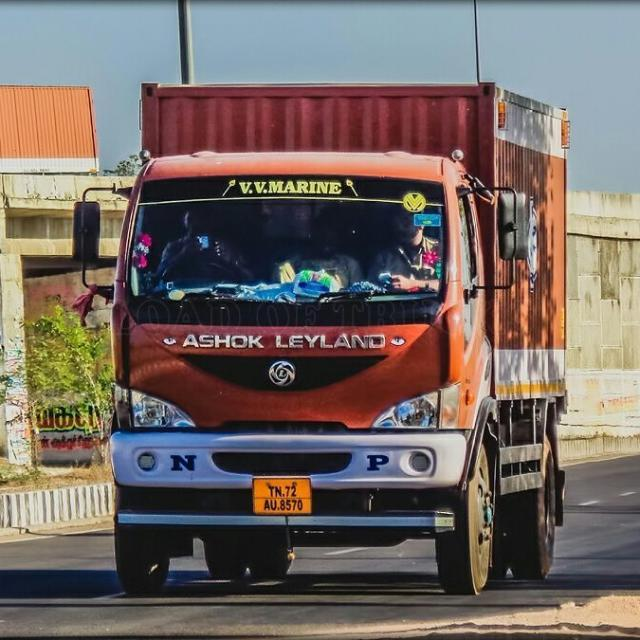Truck: (71, 79, 571, 598)
